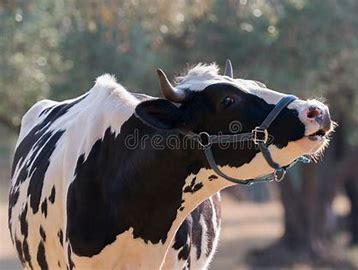waka: (12, 58, 332, 267)
